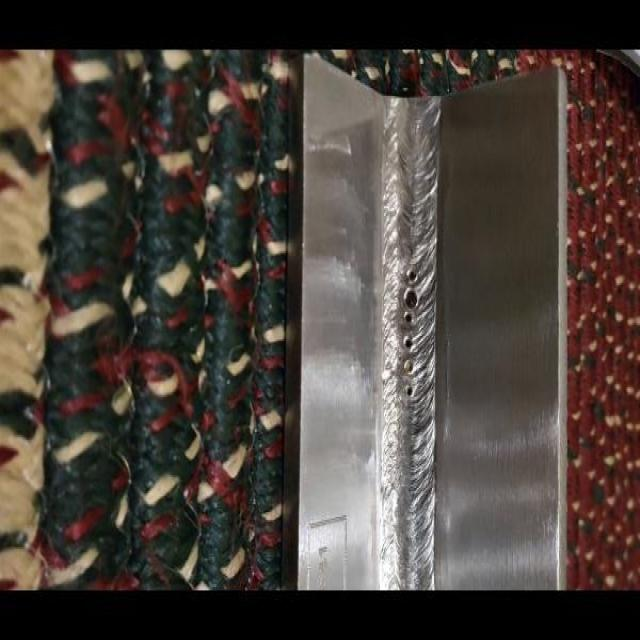Welding Line: (381, 96, 436, 592)
Workpiece: (288, 61, 564, 594)
porosity: (401, 266, 418, 396)
